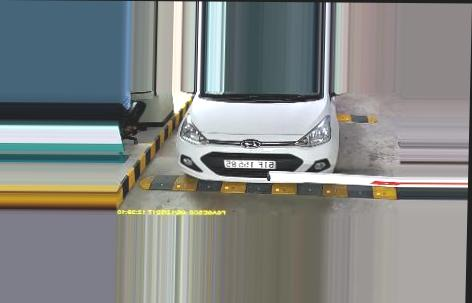License_Plate: (220, 156, 278, 171)
